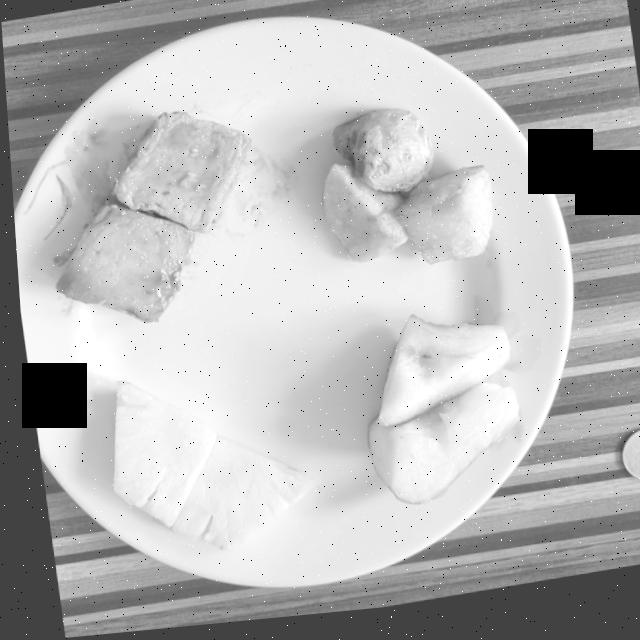coin: (614, 440, 640, 493)
creamy tofu: (51, 115, 247, 325)
fried potato: (318, 116, 489, 272)
pineapple: (105, 382, 311, 555)
